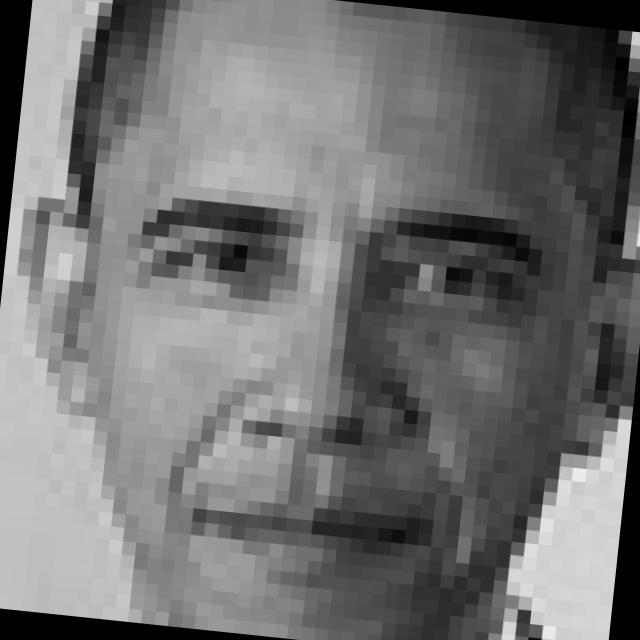neutral: (96, 166, 570, 612)
